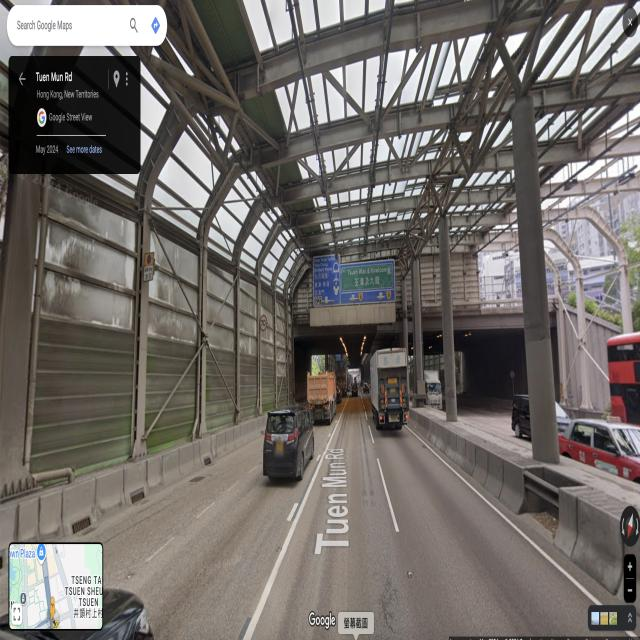Direction-Sign: (340, 259, 395, 304), (313, 256, 340, 307)
Order-Sign: (258, 315, 267, 331)
